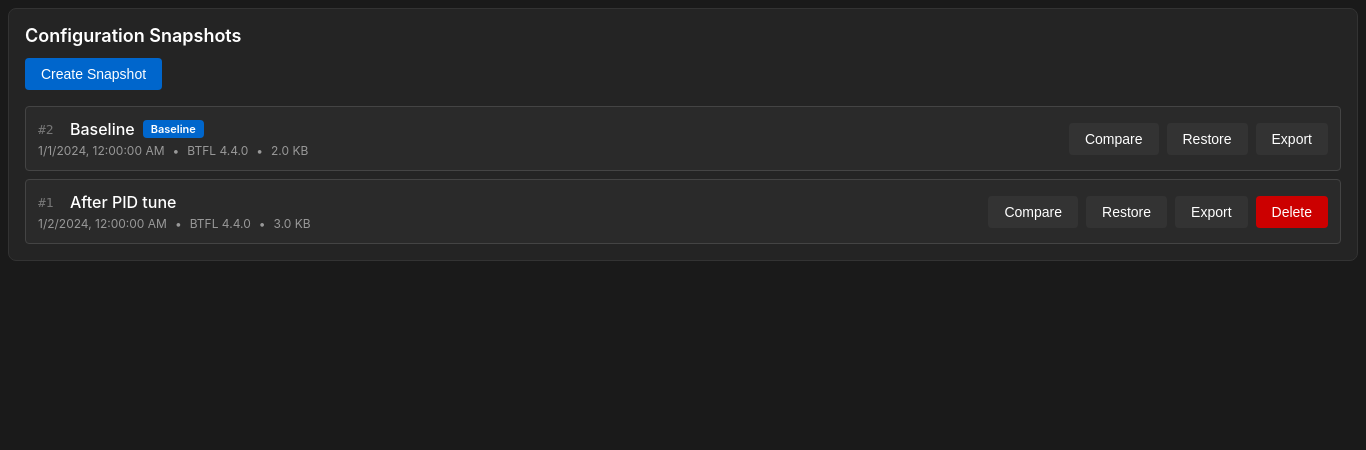
SnapshotManager › hides restore confirmation when cancel clicked
The image size is (1366, 450).
Expected: the text "After PID tune" is shown, [70,192,176,212]
Click the button "Restore" in the row of "2.0 KB". click: (1207, 138)
box: [1166,122,1248,154]
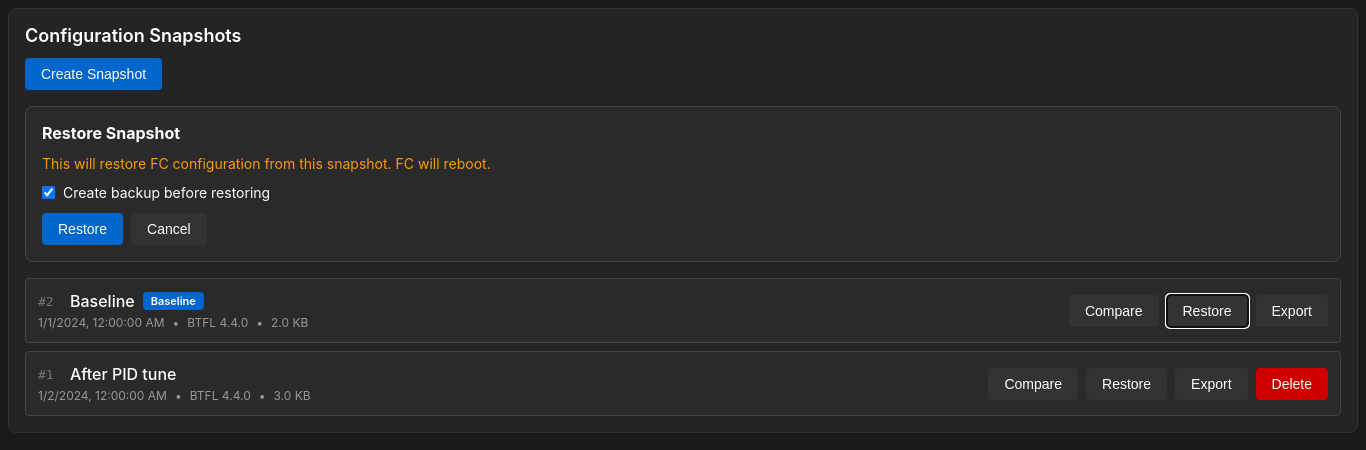
Expected: the heading "Restore Snapshot" is shown, [42,123,180,143]
Click the button "Cancel". click: (169, 229)
box: [131,213,207,245]
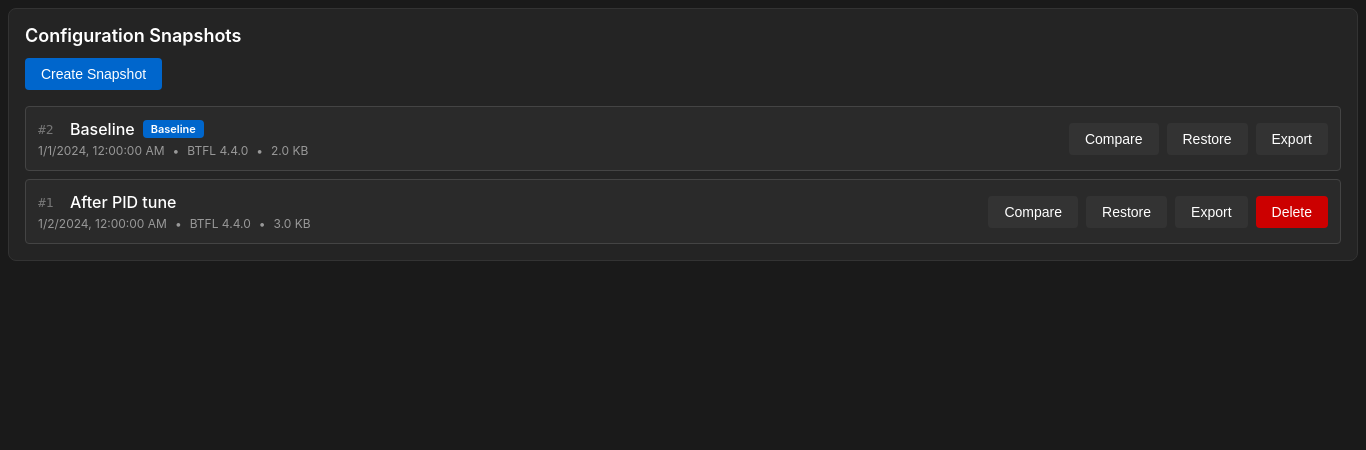
Expected: the heading "Restore Snapshot" is gone
